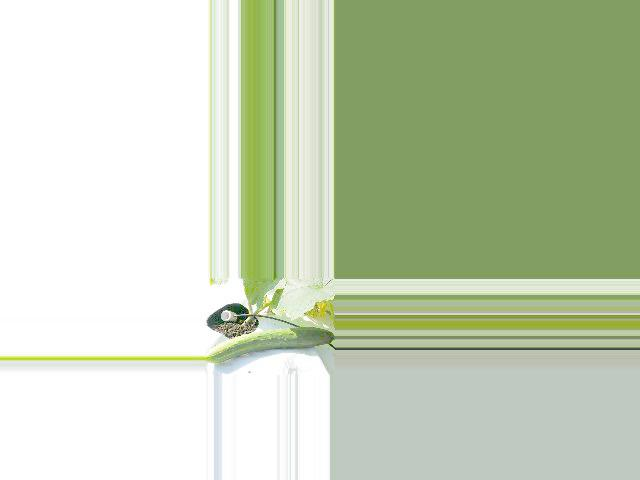cucumber: (203, 327, 334, 363)
